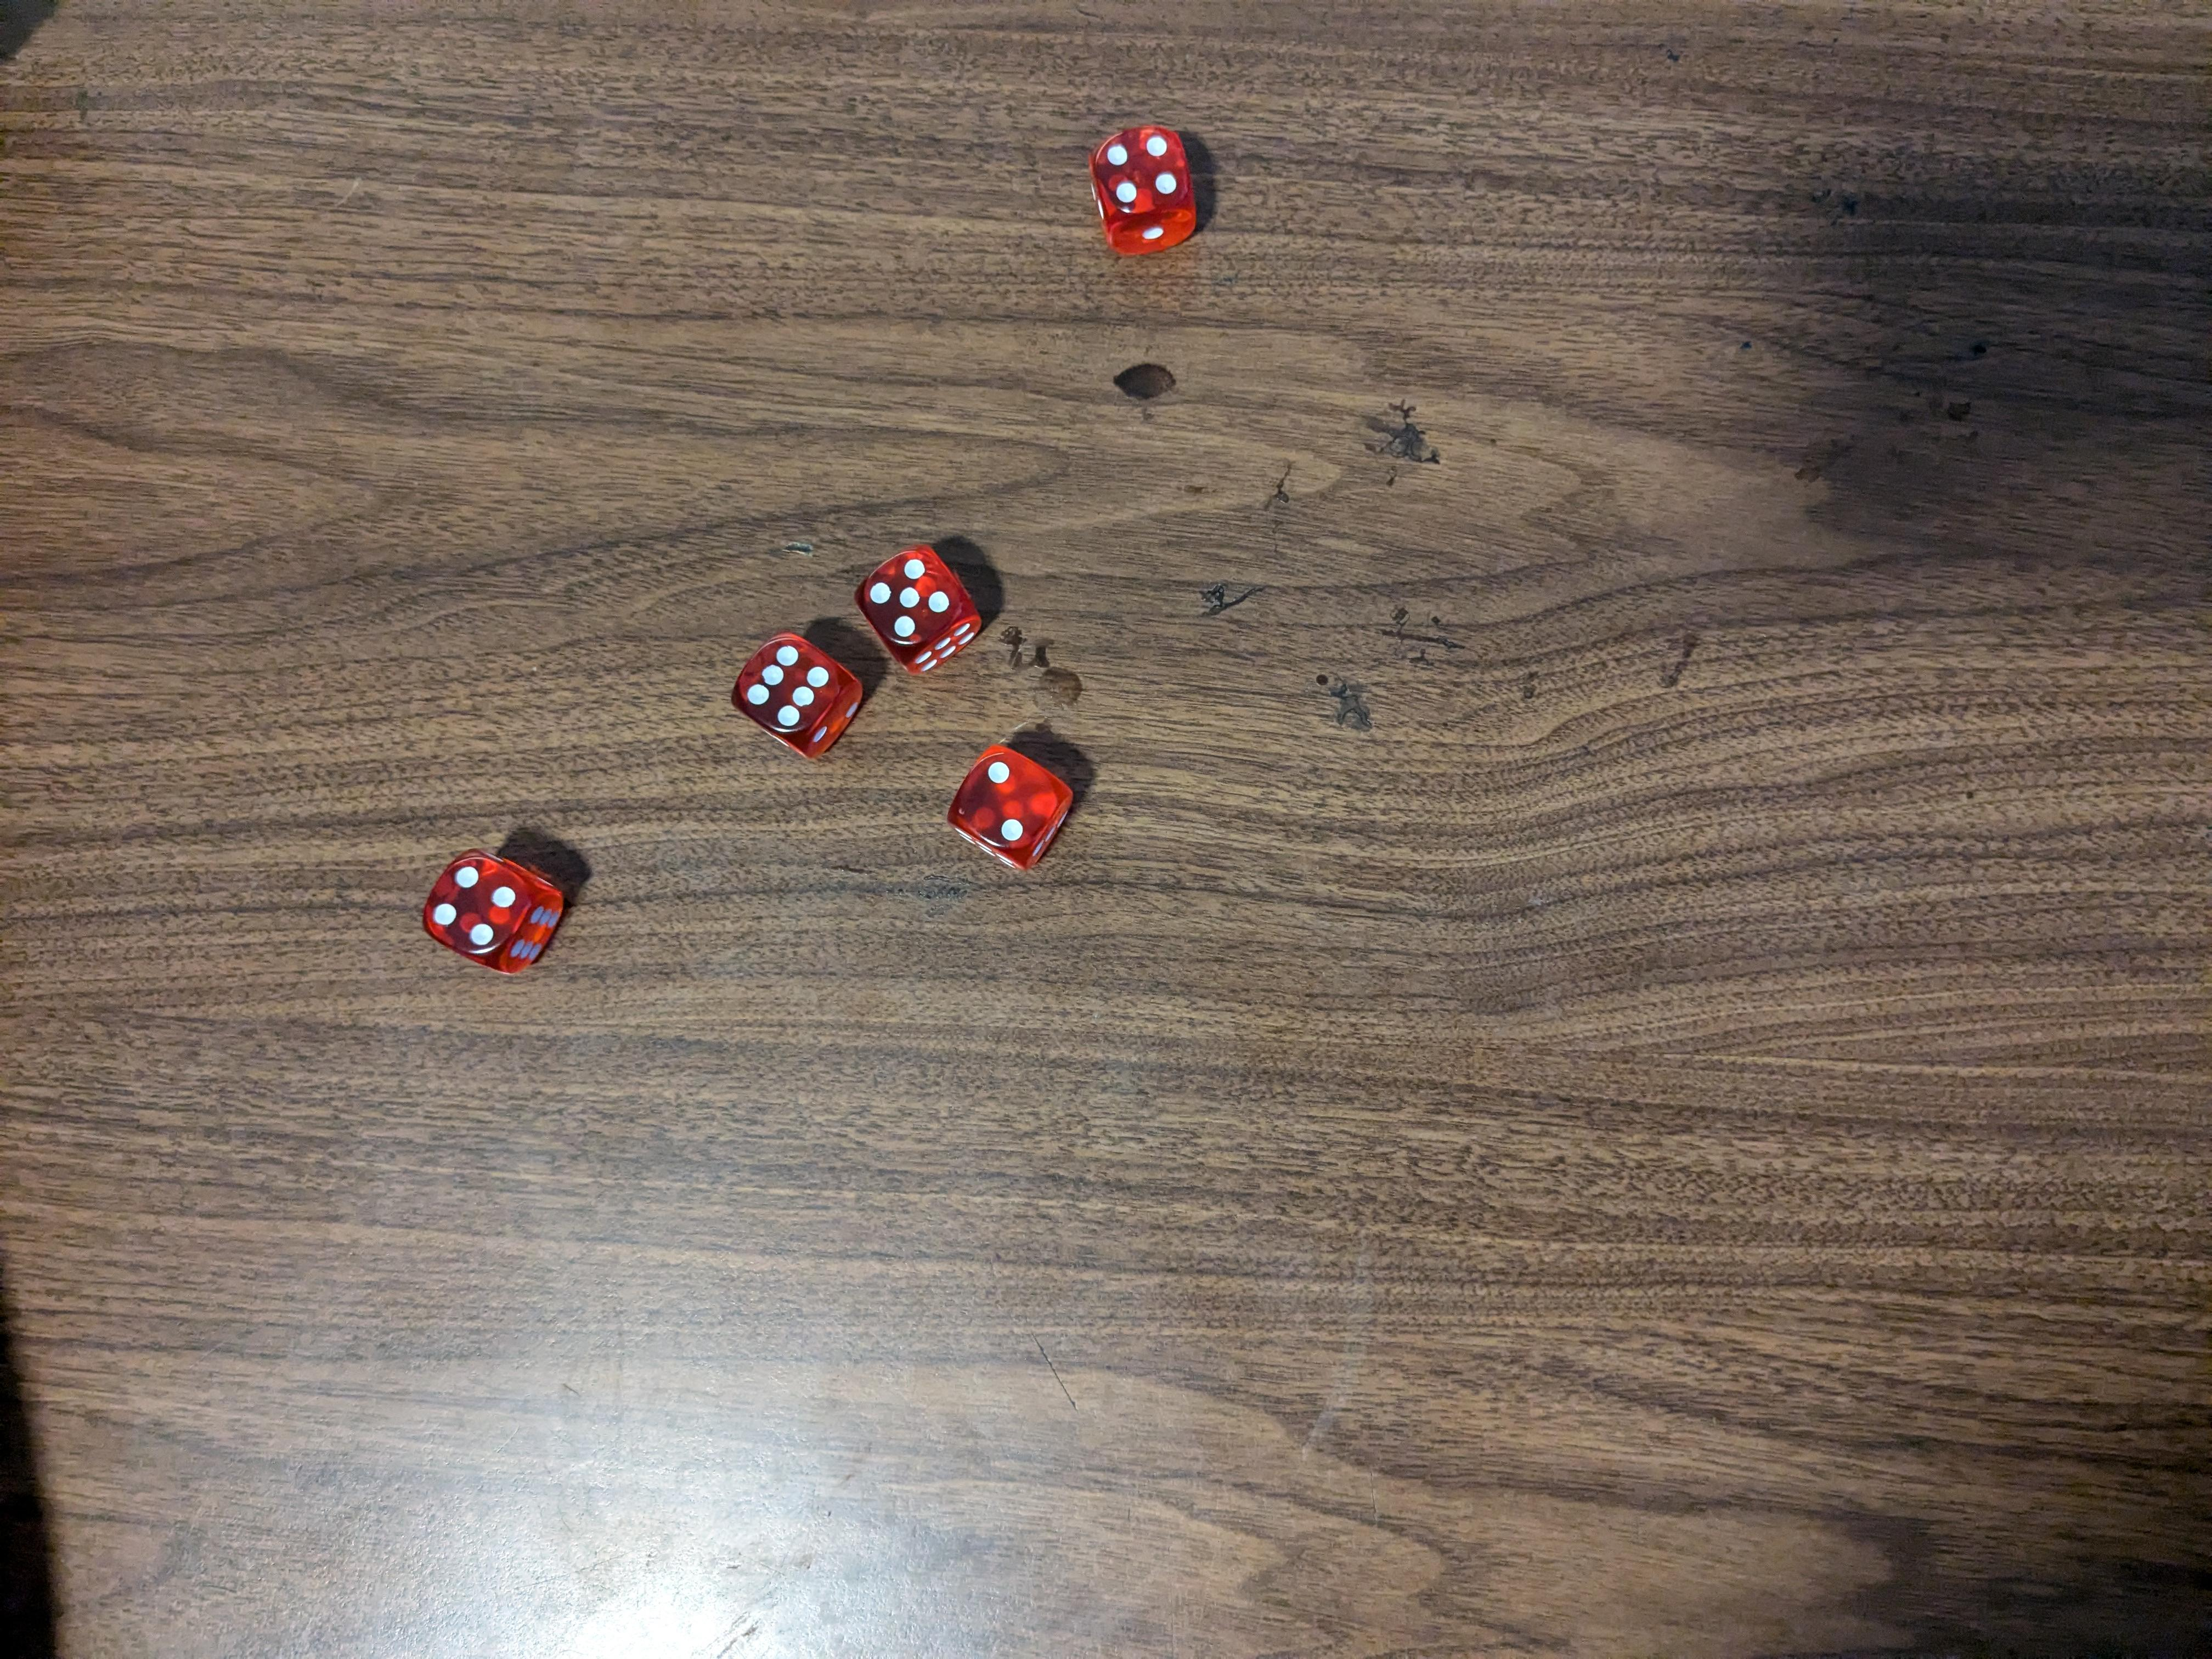five: (852, 538, 989, 685)
four: (1085, 117, 1207, 265), (423, 850, 570, 972)
six: (735, 629, 871, 756)
two: (948, 744, 1078, 871)
